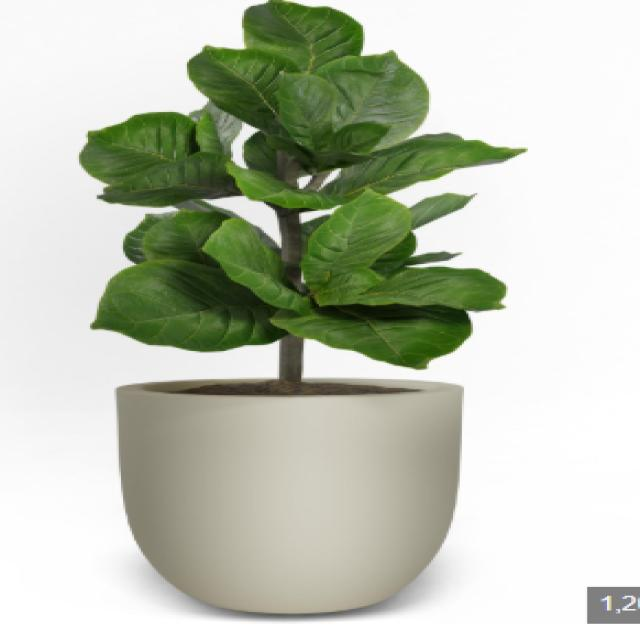Plant Pot: (104, 372, 511, 616)
